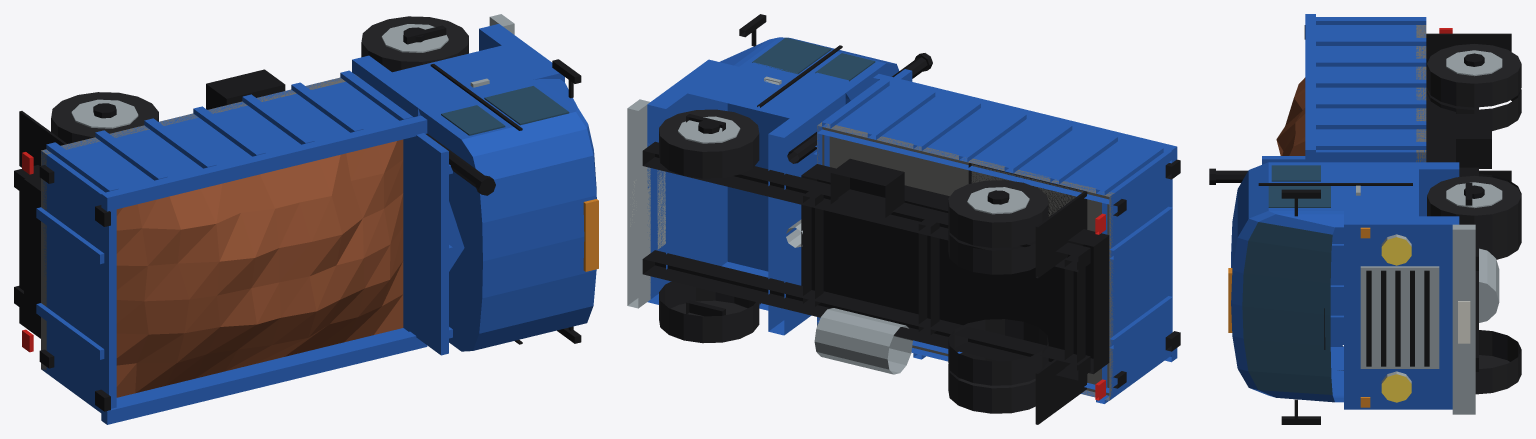
Rendered from loaded.glb.
The picture shows the model from 3 angles, left to right: view 1: azimuth 30°, elevation 25°; view 2: azimuth 150°, elevation 25°; view 3: azimuth 270°, elevation 25°; orthographic projection. The views are drawn at different scales.
Parts seen in each view (by area): view 1: loaded_load, loaded_bed, loaded_cab_upper, loaded_headboard, loaded_cab_arch, loaded_front1, loaded_rear_out1, loaded_subframe, loaded_cab_back, loaded_battery_box, loaded_side_window1, loaded_cab_front (+4 smaller); view 2: loaded_bed, loaded_subframe, loaded_cab_arch, loaded_chassis-1, loaded_chassis1, loaded_cab_back, loaded_cab_front, loaded_front1, loaded_rear_out1, loaded_fuel_tank, loaded_bumper, loaded_front-1 (+15 smaller); view 3: loaded_cab_upper, loaded_bed, loaded_cab_front, loaded_grille, loaded_rear_out1, loaded_front1, loaded_bumper, loaded_cab_arch, loaded_front-1, loaded_battery_box, loaded_subframe, loaded_cab_back (+22 smaller).
Part boxes in pixels (x1=…): loaded_load: x1=116, y1=139, x2=403, y2=397; loaded_bed: x1=36, y1=70, x2=427, y2=424; loaded_cab_upper: x1=418, y1=79, x2=596, y2=351; loaded_headboard: x1=414, y1=133, x2=448, y2=355; loaded_cab_arch: x1=392, y1=45, x2=544, y2=271; loaded_front1: x1=361, y1=16, x2=468, y2=72; loaded_rear_out1: x1=51, y1=92, x2=158, y2=143; loaded_subframe: x1=24, y1=175, x2=40, y2=327; loaded_cab_back: x1=352, y1=55, x2=434, y2=116; loaded_battery_box: x1=206, y1=69, x2=285, y2=109; loaded_side_window1: x1=484, y1=86, x2=569, y2=125; loaded_cab_front: x1=479, y1=24, x2=564, y2=82; loaded_bed: x1=817, y1=74, x2=1177, y2=403; loaded_subframe: x1=801, y1=164, x2=1109, y2=374; loaded_cab_arch: x1=687, y1=64, x2=829, y2=310; loaded_chassis-1: x1=642, y1=250, x2=1090, y2=380; loaded_chassis1: x1=642, y1=141, x2=1090, y2=271; loaded_cab_back: x1=768, y1=89, x2=845, y2=335; loaded_cab_front: x1=647, y1=59, x2=727, y2=304; loaded_front1: x1=659, y1=109, x2=759, y2=178; loaded_rear_out1: x1=948, y1=180, x2=1048, y2=247; loaded_fuel_tank: x1=814, y1=308, x2=912, y2=374; loaded_bumper: x1=627, y1=99, x2=650, y2=308; loaded_front-1: x1=659, y1=281, x2=759, y2=343; loaded_cab_upper: x1=1231, y1=162, x2=1343, y2=402; loaded_bed: x1=1305, y1=14, x2=1426, y2=344; loaded_cab_front: x1=1344, y1=216, x2=1459, y2=409; loaded_grille: x1=1360, y1=266, x2=1439, y2=368; loaded_rear_out1: x1=1427, y1=44, x2=1521, y2=107; loaded_front1: x1=1427, y1=175, x2=1521, y2=240; loaded_bumper: x1=1452, y1=224, x2=1475, y2=414; loaded_cab_arch: x1=1344, y1=169, x2=1418, y2=216; loaded_front-1: x1=1475, y1=330, x2=1521, y2=394; loaded_battery_box: x1=1456, y1=114, x2=1491, y2=168; loaded_subframe: x1=1426, y1=67, x2=1455, y2=162; loaded_cab_back: x1=1344, y1=162, x2=1459, y2=216.
Size of the model in its own units: 7.6 by 3.9 by 4.75.
